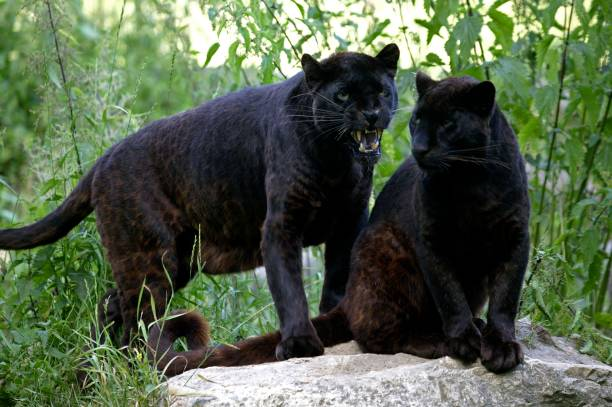panther: (285, 38, 402, 168)
